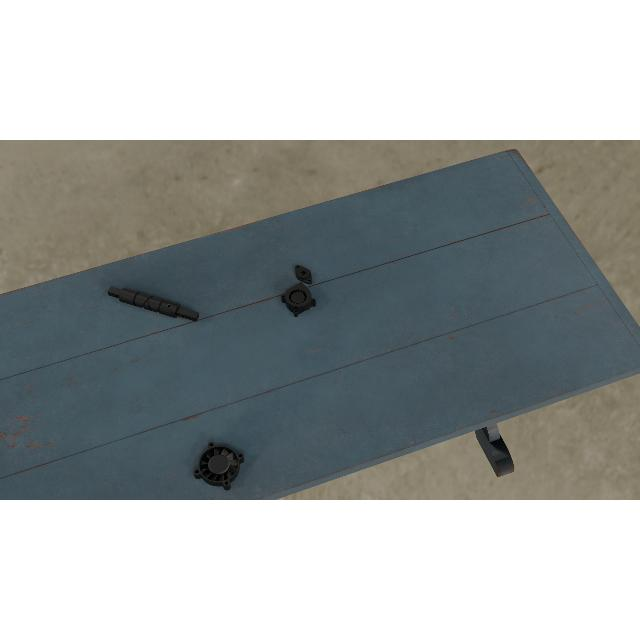Pieza1: (105, 281, 201, 327)
Pieza2: (290, 261, 318, 287)
Pieza3: (280, 282, 318, 318)
Pieza4: (192, 440, 246, 492)
